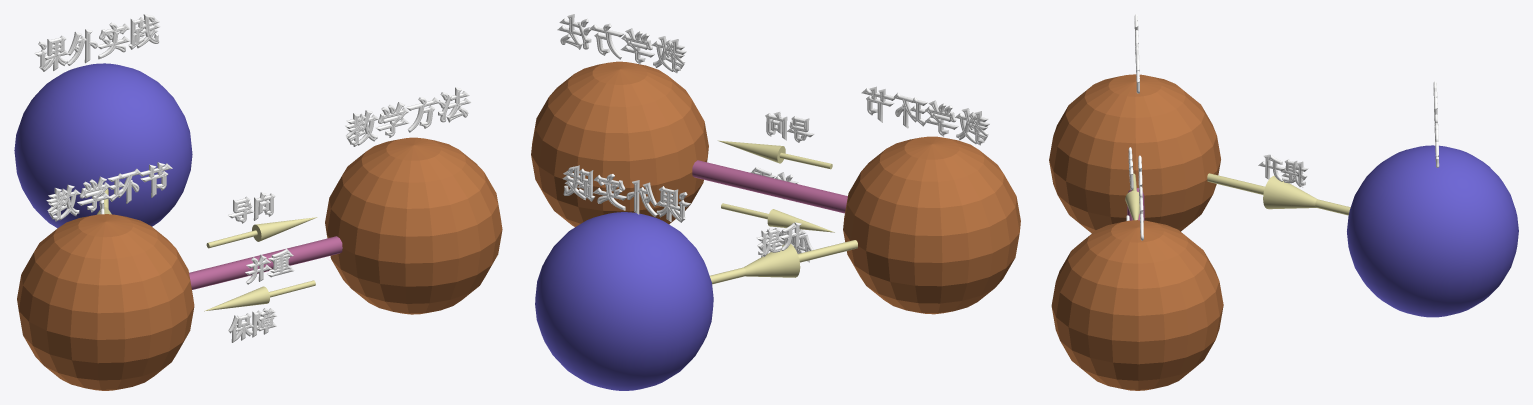
3 renders of one model, left to right at view 1: azimuth 30°, elevation 25°; view 2: azimuth 150°, elevation 25°; view 3: azimuth 270°, elevation 25°, orthographic. The views are drawn at different scales.
Visible parts, largest first — view 1: Sphere010, Sphere011, Sphere008, Text046, Text051, Text055, Line008, Text056, Text052, Text053, Cone036, Cone035; view 2: Sphere008, Sphere010, Sphere011, Text046, Line008, Text051, Text055, Cone032, Text049, Line009, Text053, Cone035 (+1 smaller); view 3: Sphere008, Sphere011, Sphere010, Cone032, Text049, Line009.
Part boxes in pixels (x1=…): Sphere010: x1=17, y1=214, x2=194, y2=390; Sphere011: x1=325, y1=137, x2=502, y2=314; Sphere008: x1=14, y1=63, x2=192, y2=228; Text046: x1=34, y1=14, x2=160, y2=71; Text051: x1=344, y1=87, x2=471, y2=146; Text055: x1=46, y1=162, x2=172, y2=221; Line008: x1=189, y1=236, x2=342, y2=289; Text056: x1=228, y1=308, x2=276, y2=342; Text052: x1=245, y1=248, x2=294, y2=284; Text053: x1=228, y1=192, x2=275, y2=223; Cone036: x1=204, y1=286, x2=269, y2=311; Cone035: x1=252, y1=217, x2=317, y2=241; Sphere008: x1=535, y1=212, x2=713, y2=390; Sphere010: x1=843, y1=136, x2=1020, y2=314; Sphere011: x1=531, y1=61, x2=708, y2=226; Text046: x1=562, y1=165, x2=690, y2=222; Line008: x1=692, y1=160, x2=847, y2=213; Text051: x1=557, y1=14, x2=686, y2=73; Text055: x1=861, y1=86, x2=989, y2=145; Cone032: x1=743, y1=244, x2=800, y2=277; Text049: x1=756, y1=222, x2=806, y2=257; Line009: x1=709, y1=240, x2=857, y2=284; Text053: x1=765, y1=112, x2=814, y2=142; Cone035: x1=718, y1=140, x2=785, y2=163; Sphere008: x1=1347, y1=145, x2=1518, y2=317; Sphere011: x1=1051, y1=220, x2=1223, y2=390; Sphere010: x1=1049, y1=74, x2=1220, y2=233; Cone032: x1=1263, y1=175, x2=1317, y2=209; Text049: x1=1258, y1=154, x2=1308, y2=187; Line009: x1=1207, y1=173, x2=1350, y2=215.
Bounding box in the file's own units: 0.7627 × 0.3263 × 0.6933.
